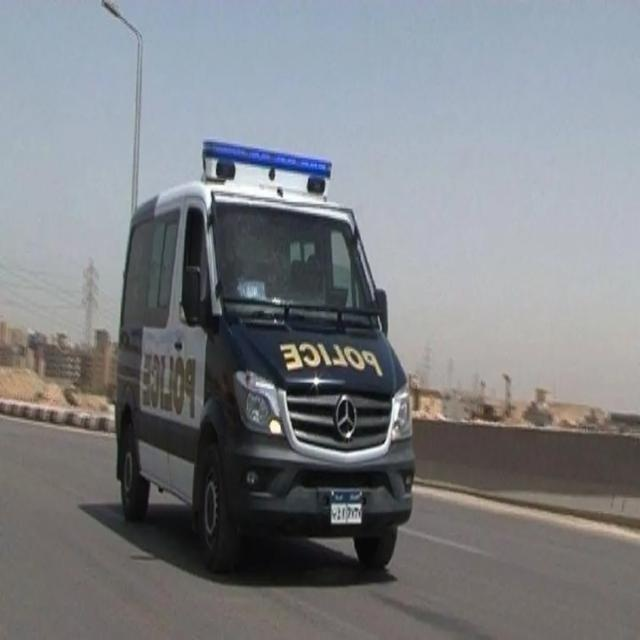police-car: (114, 138, 417, 574)
